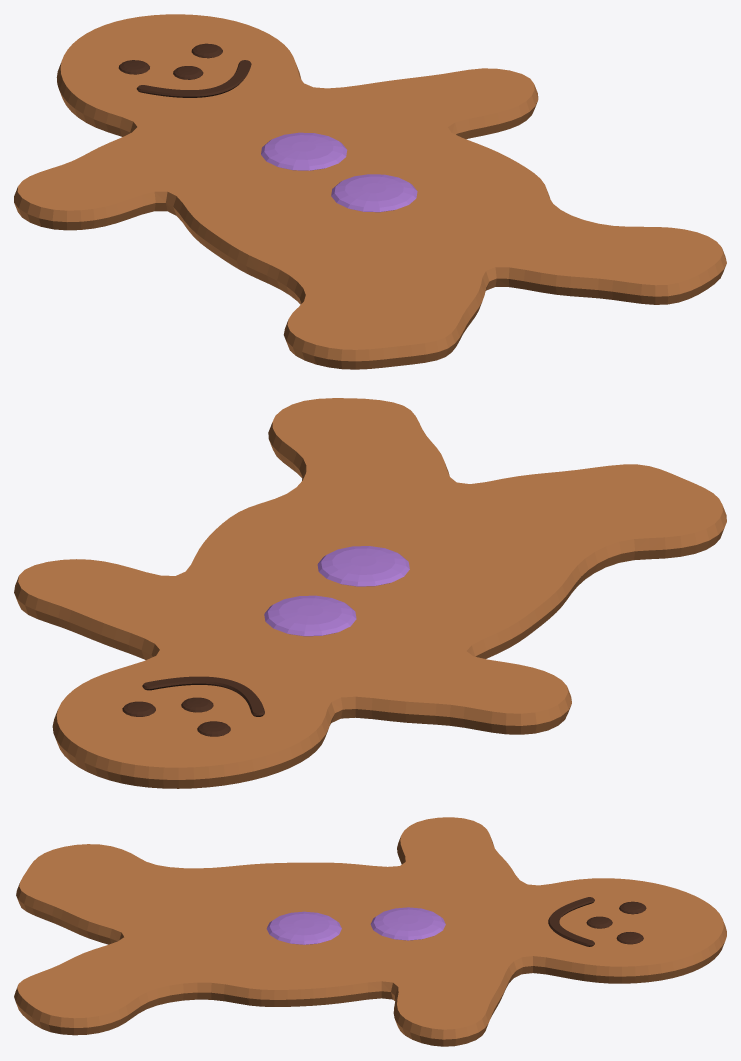
Rendered from NEW587_gingerbread_man_LOD2.glb.
The picture shows the model from 3 angles, top to bottom: view 1: azimuth 30°, elevation 25°; view 2: azimuth 150°, elevation 25°; view 3: azimuth 270°, elevation 25°; orthographic projection. The views are drawn at different scales.
Visible parts, largest first — view 1: Continuous baked biscuit, Lower lentil button, Upper lentil button, Shallow curved chocolate smile; view 2: Continuous baked biscuit, Upper lentil button, Lower lentil button, Shallow curved chocolate smile; view 3: Continuous baked biscuit, Lower lentil button, Upper lentil button, Shallow curved chocolate smile.
Boxes of the visible parts, x1,y1,x2,y2 form: Continuous baked biscuit: [14, 14, 726, 369]; Lower lentil button: [331, 174, 417, 212]; Upper lentil button: [261, 132, 347, 170]; Shallow curved chocolate smile: [136, 60, 251, 97]; Continuous baked biscuit: [14, 398, 726, 788]; Upper lentil button: [264, 595, 356, 636]; Lower lentil button: [317, 546, 409, 586]; Shallow curved chocolate smile: [142, 676, 264, 716]; Continuous baked biscuit: [14, 817, 726, 1046]; Lower lentil button: [266, 911, 341, 944]; Upper lentil button: [370, 907, 445, 940]; Shallow curved chocolate smile: [548, 897, 594, 946].
Size of the model in its own units: 0.1 by 0.005 by 0.14.
